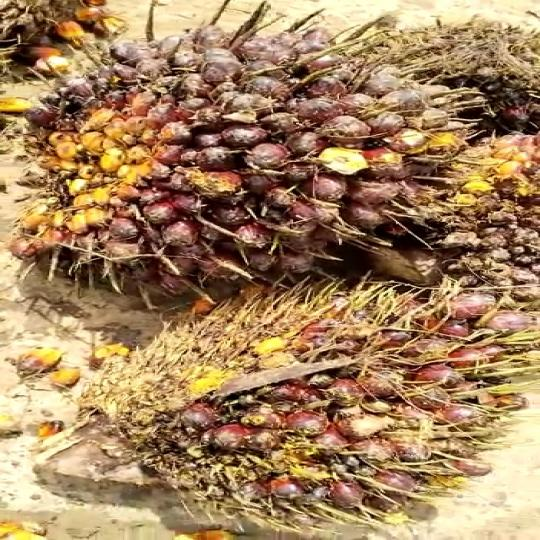kurang masak: (28, 17, 490, 288), (84, 283, 527, 524)
